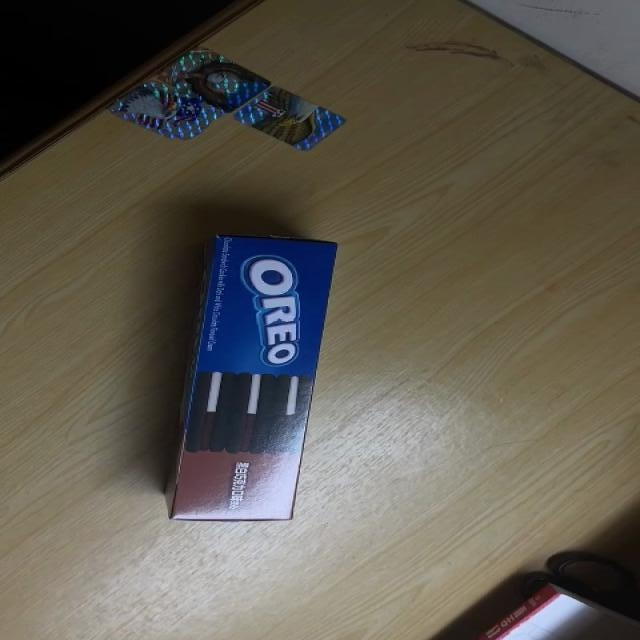Oreo: (167, 231, 341, 523)
